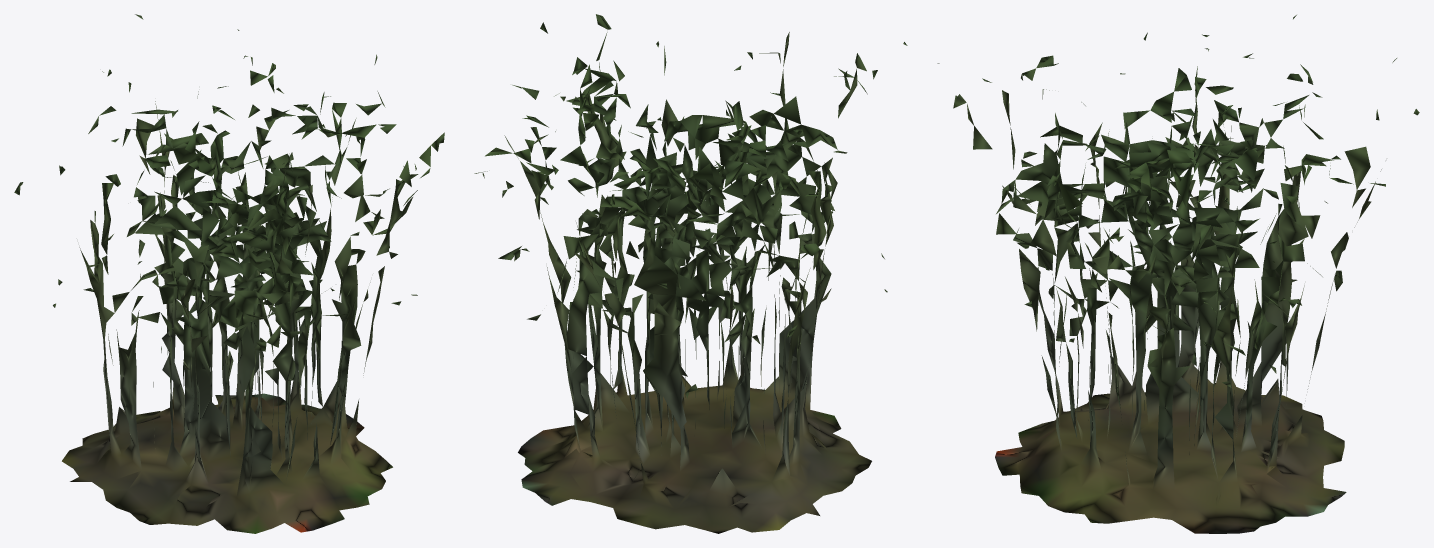
The model's file is bamboo.2.glb.
3 renders of one model, left to right at view 1: azimuth 30°, elevation 25°; view 2: azimuth 150°, elevation 25°; view 3: azimuth 270°, elevation 25°, orthographic. The views are drawn at different scales.
Parts seen in each view (by area): view 1: lod; view 2: lod; view 3: lod.
Boxes of the visible parts, <box> form: lod: <box>14,14,444,533</box>; lod: <box>474,14,907,533</box>; lod: <box>937,15,1419,533</box>.
Size of the model in its own units: 0.8143 by 0.8846 by 0.9094.
